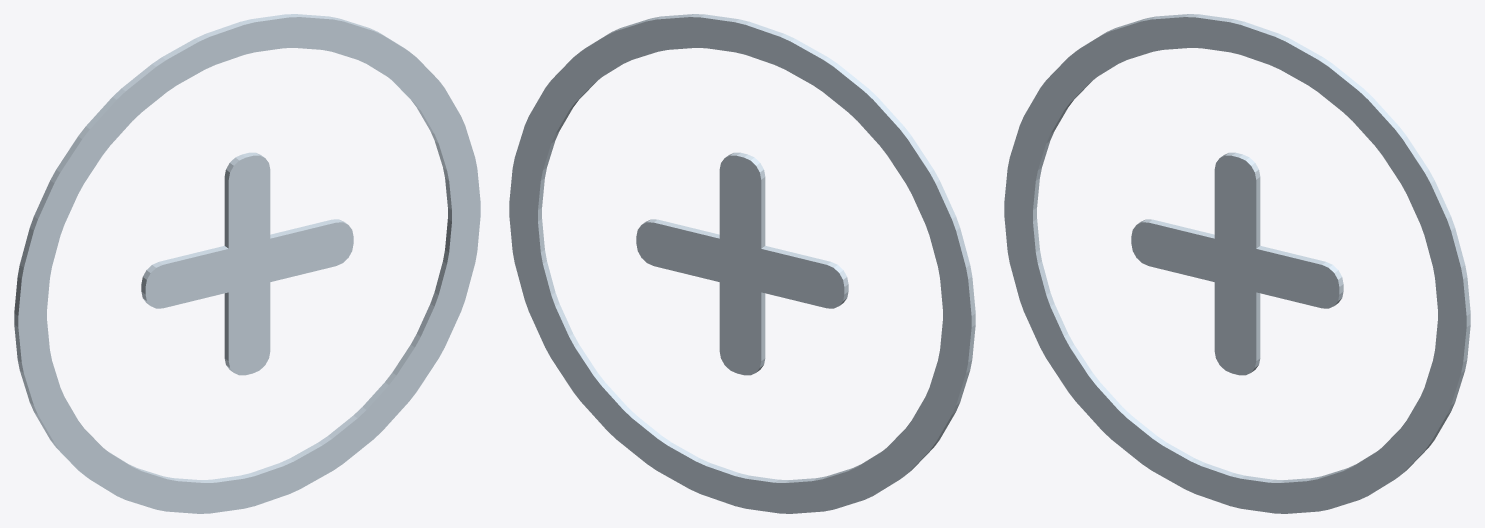
The model's file is Add_3D_Icon.fbx.
3 views of the same model, side by side, from view 1: azimuth 30°, elevation 25°; view 2: azimuth 150°, elevation 25°; view 3: azimuth 330°, elevation 25° (orthographic).
Parts seen in each view (by area): view 1: Add_3D_Icon_01; view 2: Add_3D_Icon_01; view 3: Add_3D_Icon_01.
Boxes of the visible parts, <box> form: Add_3D_Icon_01: <box>14,14,480,513</box>; Add_3D_Icon_01: <box>509,14,975,513</box>; Add_3D_Icon_01: <box>1004,14,1470,513</box>.
Bounding box in the file's own units: 122 × 122 × 1.9.
